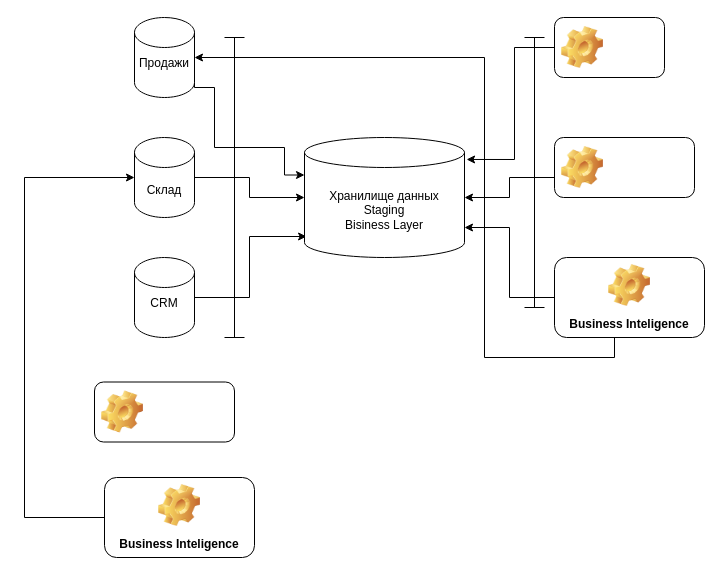
Image size: 722x575. Some labels were removed from this diagram. The centre of each missing label's shape, as x and y in pixels:
Excel: (x=624, y=167)
Google Analytics API: (x=164, y=411)
SQL: (x=609, y=47)
